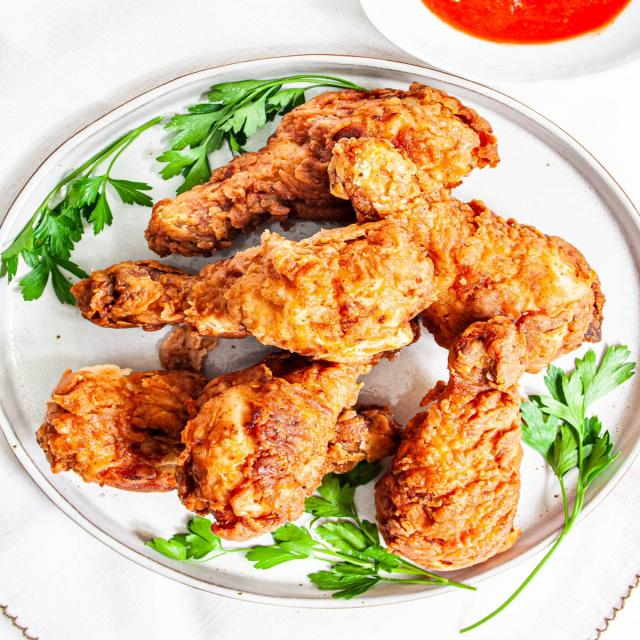Frango: (48, 80, 606, 563)
